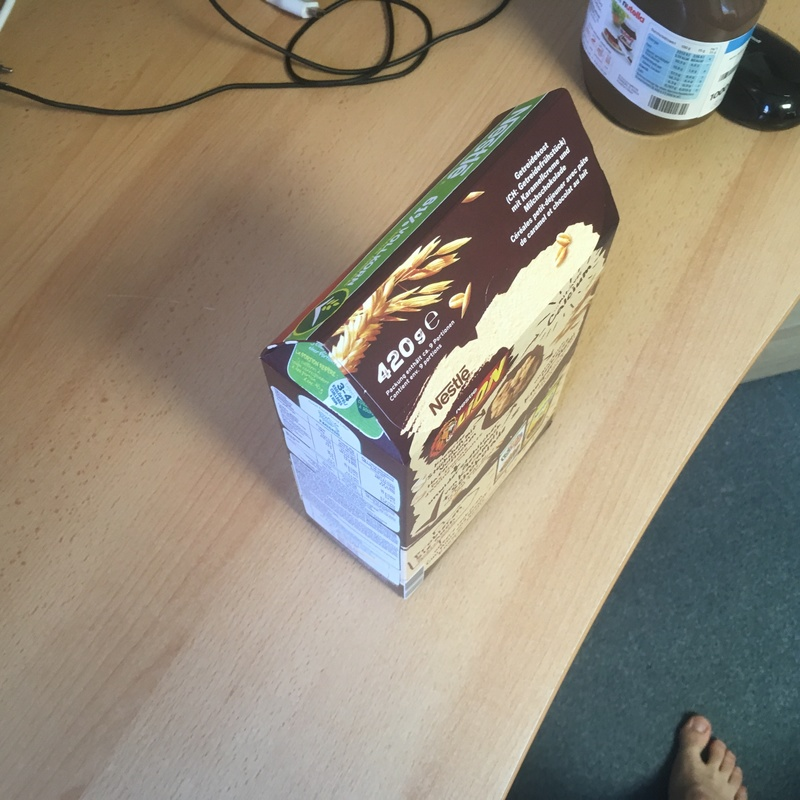cereals: (259, 88, 620, 595)
